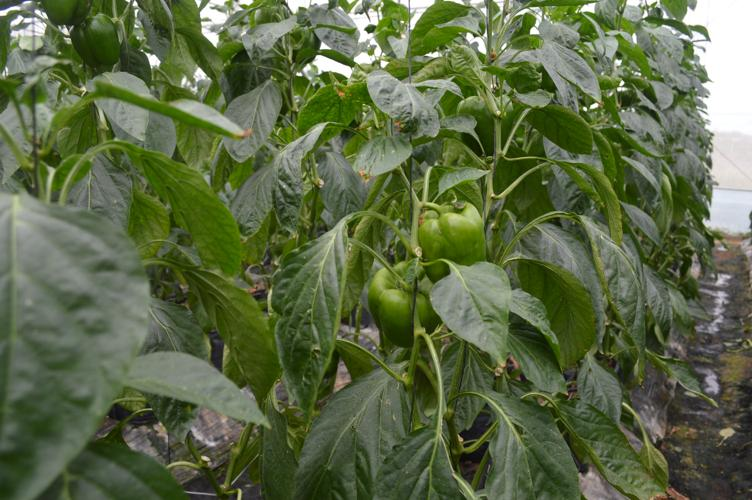BellPepper: (364, 264, 438, 341), (413, 198, 482, 271), (456, 94, 510, 154), (72, 17, 116, 67), (44, 1, 86, 25)
